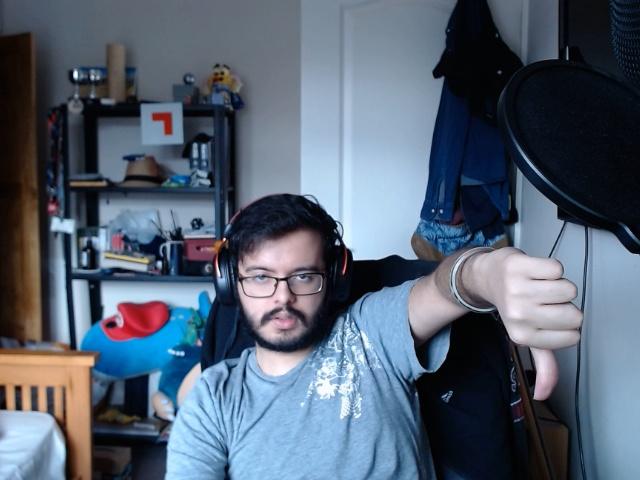Thumbs down: (495, 234, 587, 411)
